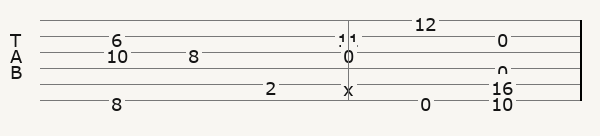0: (343, 44, 358, 61), (420, 92, 435, 109), (497, 28, 512, 45), (497, 60, 512, 77)
10: (106, 44, 132, 61), (491, 92, 517, 109)
11: (337, 28, 363, 45)
12: (414, 12, 440, 29)
16: (491, 76, 517, 93)
2: (265, 76, 280, 93)
6: (111, 28, 126, 45)
8: (111, 92, 126, 109), (188, 44, 203, 61)
x: (343, 77, 358, 91)
